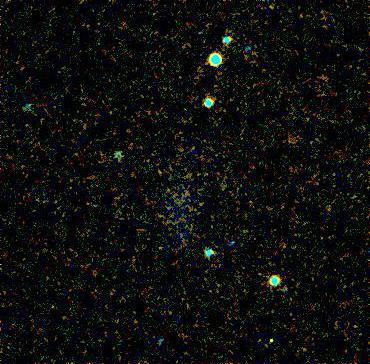star: (257, 327, 287, 357)
